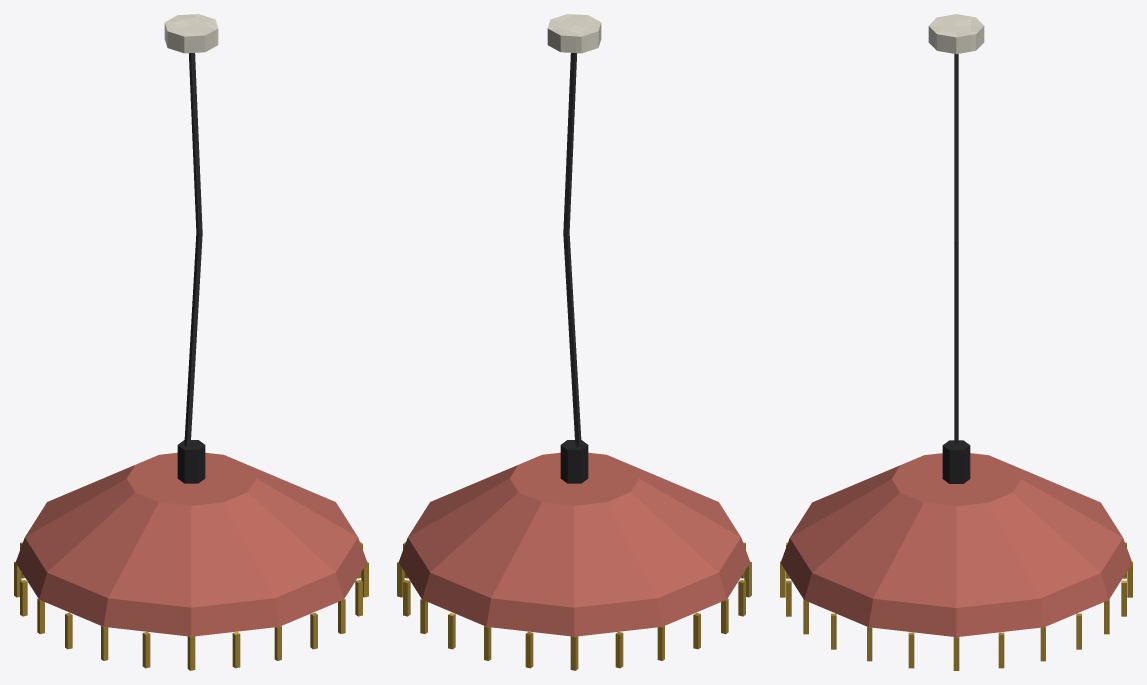
The model's file is pendant_lamp_red.glb.
3 views of the same model, side by side, from view 1: azimuth 30°, elevation 25°; view 2: azimuth 150°, elevation 25°; view 3: azimuth 270°, elevation 25° (orthographic).
Parts seen in each view (by area): view 1: pendant_lamp_red; view 2: pendant_lamp_red; view 3: pendant_lamp_red.
Part boxes in pixels (x1=…): pendant_lamp_red: x1=14, y1=14, x2=368, y2=670; pendant_lamp_red: x1=397, y1=14, x2=751, y2=670; pendant_lamp_red: x1=780, y1=14, x2=1132, y2=670.
Size of the model in its own units: 0.762 by 1.36 by 0.762.
Materials: 6 (3 with a texture image).
